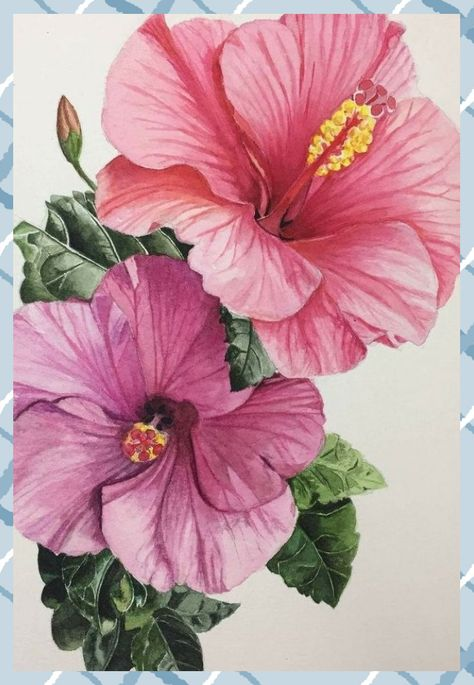Hibiscus: (99, 27, 457, 381), (19, 276, 321, 595), (36, 81, 124, 191)
